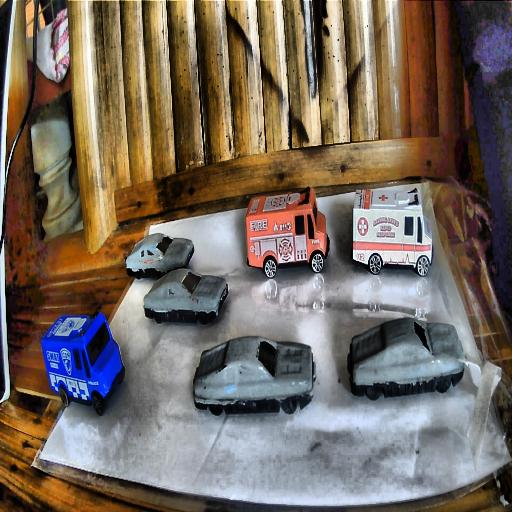ambulance: (350, 182, 434, 277)
fire_truck: (245, 186, 329, 277)
normal_car: (346, 318, 466, 400), (194, 336, 313, 416), (143, 267, 228, 326), (126, 231, 196, 282)
police car: (42, 311, 126, 416)
